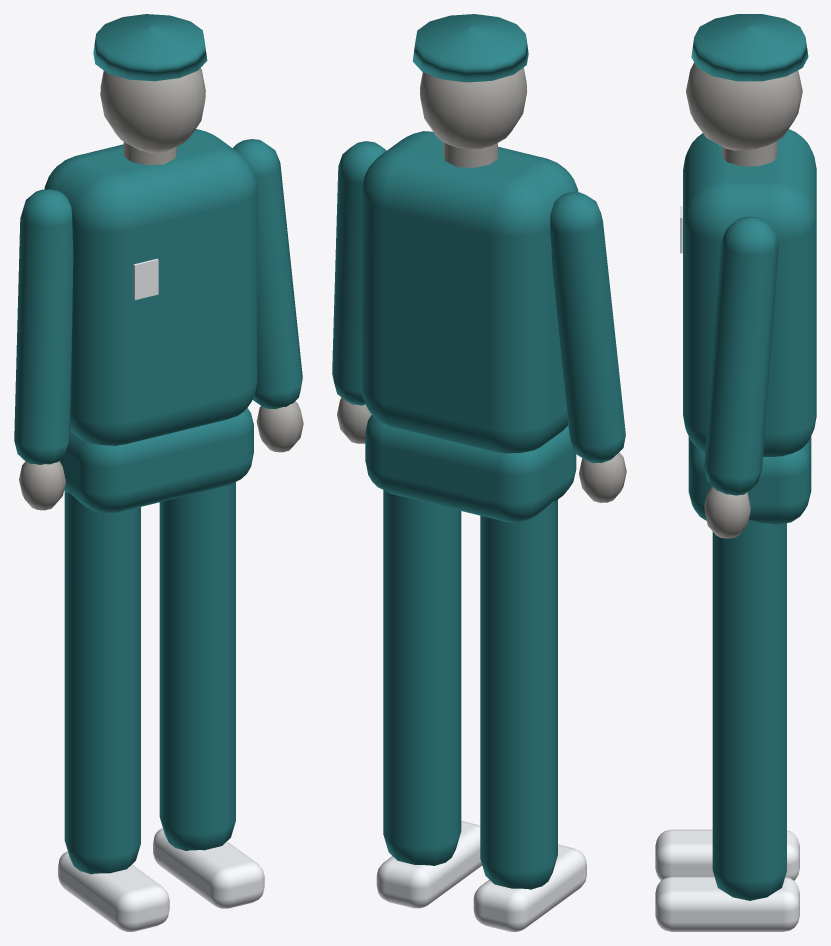
Rendered from trk-007.glb.
3 views of the same model, side by side, from view 1: azimuth 30°, elevation 25°; view 2: azimuth 150°, elevation 25°; view 3: azimuth 270°, elevation 25° (orthographic).
Visible parts, largest first — view 1: scrubs, figure, white; view 2: scrubs, figure, white; view 3: scrubs, white, figure.
Part boxes in pixels (<box>): scrubs: <box>14,14,302,874</box>; figure: <box>19,68,303,510</box>; white: <box>58,258,264,931</box>; scrubs: <box>332,14,625,889</box>; figure: <box>337,67,626,502</box>; white: <box>376,821,586,931</box>; scrubs: <box>683,14,816,900</box>; white: <box>655,206,799,931</box>; figure: <box>686,62,802,538</box>.
Bounding box in the file's own units: 0.5887 × 1.73 × 0.29.
